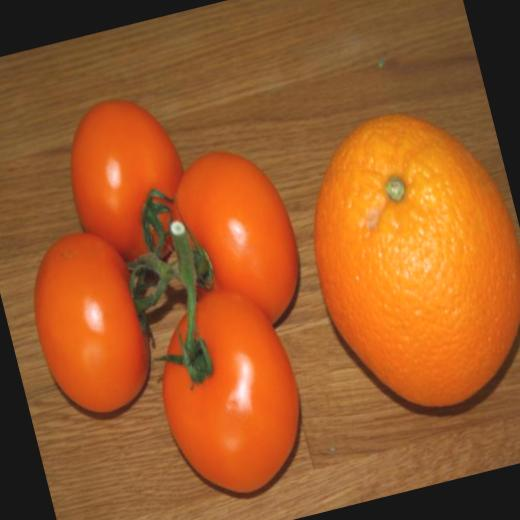Grape: (284, 91, 520, 427)
